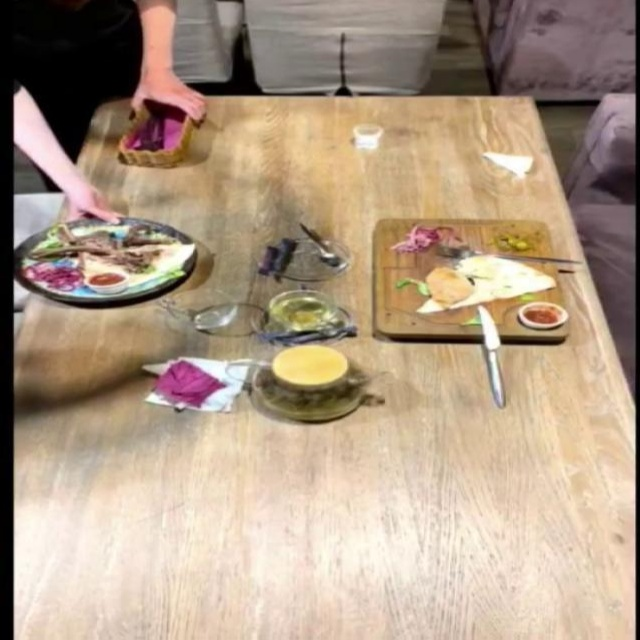meat: (364, 211, 566, 347), (36, 190, 172, 333)
tea: (217, 350, 377, 434)
